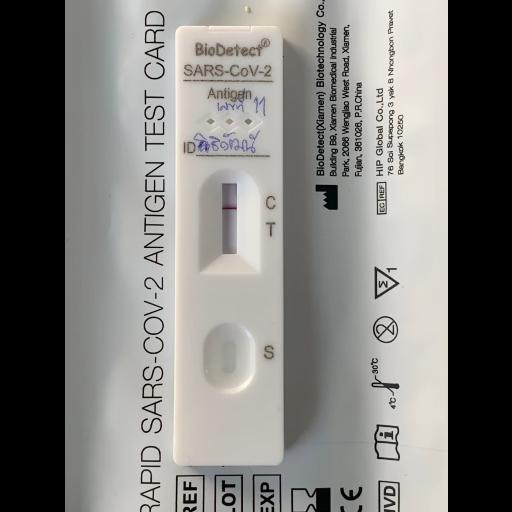Neg: (175, 25, 281, 469)
